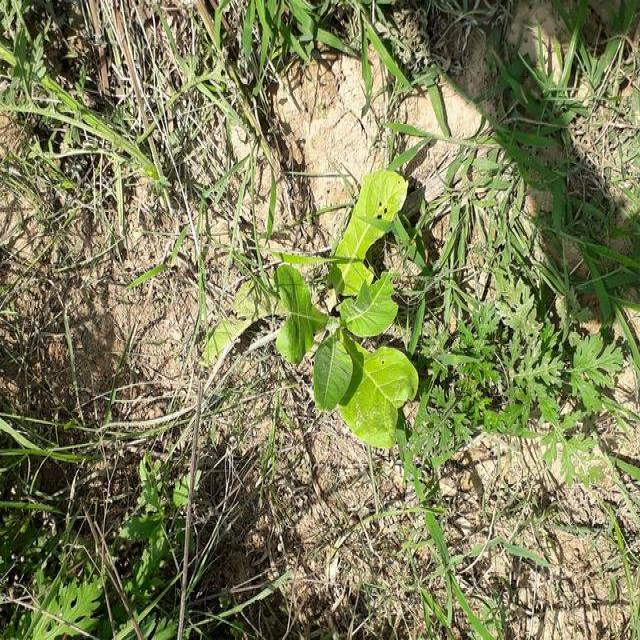crop: (202, 171, 423, 441)
